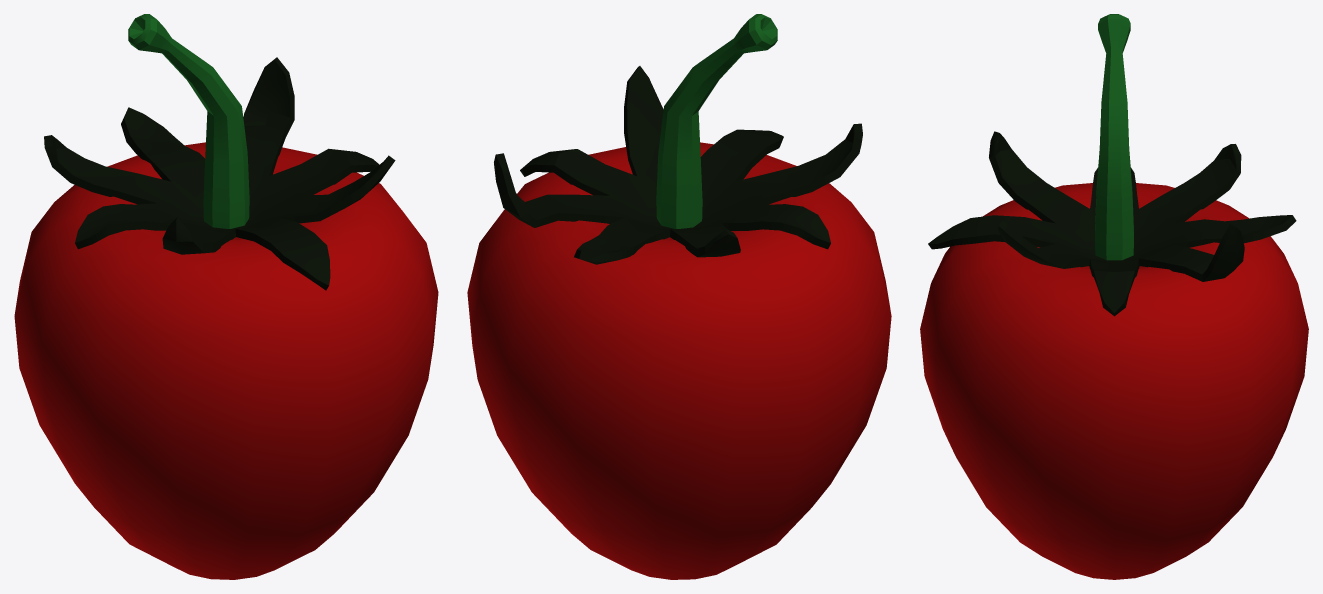
The model's file is Strawberry.FBX.
The picture shows the model from 3 angles, left to right: view 1: azimuth 30°, elevation 25°; view 2: azimuth 150°, elevation 25°; view 3: azimuth 270°, elevation 25°; orthographic projection. The views are drawn at different scales.
Visible parts, largest first — view 1: Strawberry; view 2: Strawberry; view 3: Strawberry.
Part boxes in pixels (<box>): Strawberry: <box>14,14,438,579</box>; Strawberry: <box>467,14,891,579</box>; Strawberry: <box>920,14,1308,579</box>.
Bounding box in the file's own units: 1009 × 1009 × 1494.
